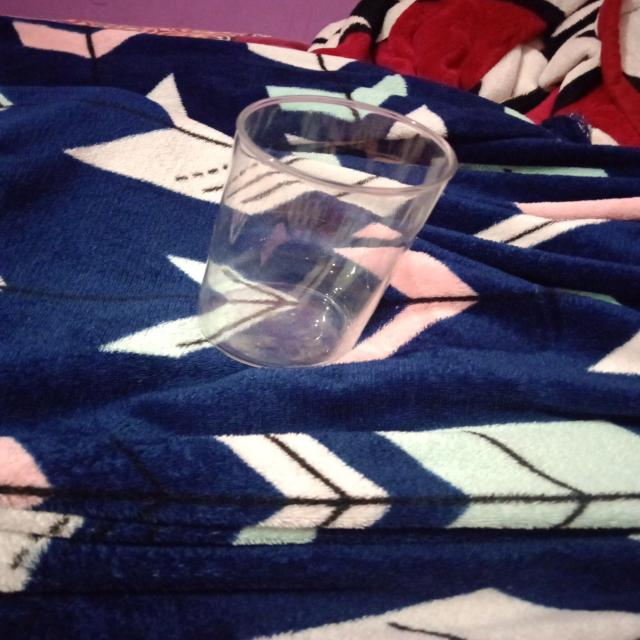Glass: (189, 89, 459, 372)
